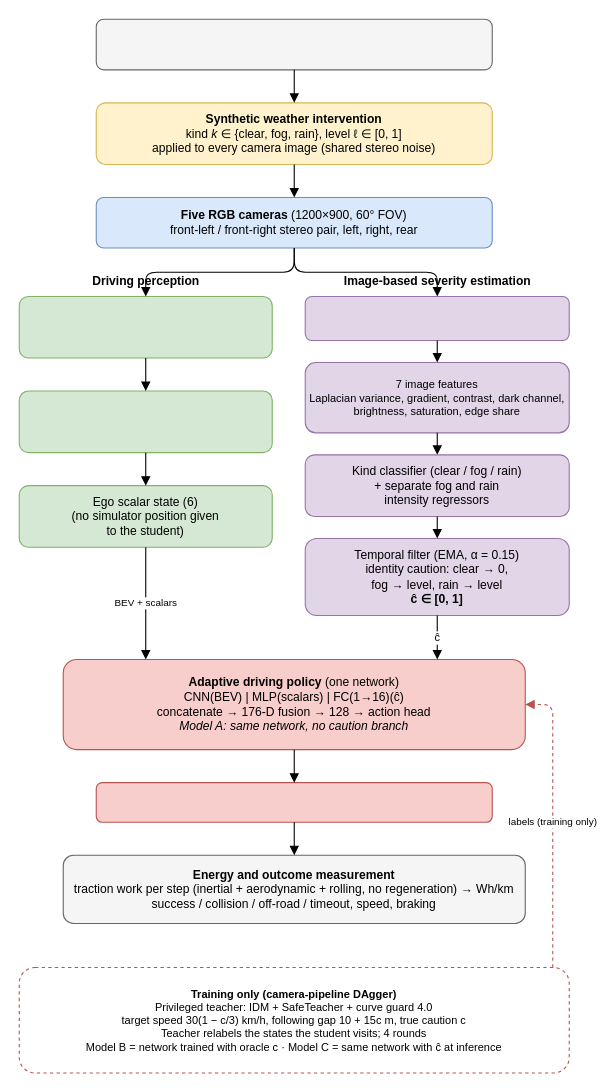
This 616x1092 diagram has some shape labels left out. The shapes that lost their labels are listed below. From the top down, each one's box as (x1, y1, x2, y2) in pixels, then its label:
(95, 18, 492, 70): MetaDrive simulator map, traffic density 0.05, ego vehicle (10 Hz)
(18, 295, 272, 358): Stereo SGM depth (front pair) + YOLOv8n on 4 views → object footprints
(304, 295, 569, 340): Front-left frame (weather-processed)
(18, 390, 272, 453): Frozen BEV builder + HD-map layers → 64×64 BEV grid
(95, 782, 492, 822): Action: [steering, throttle / brake] → MetaDrive step
